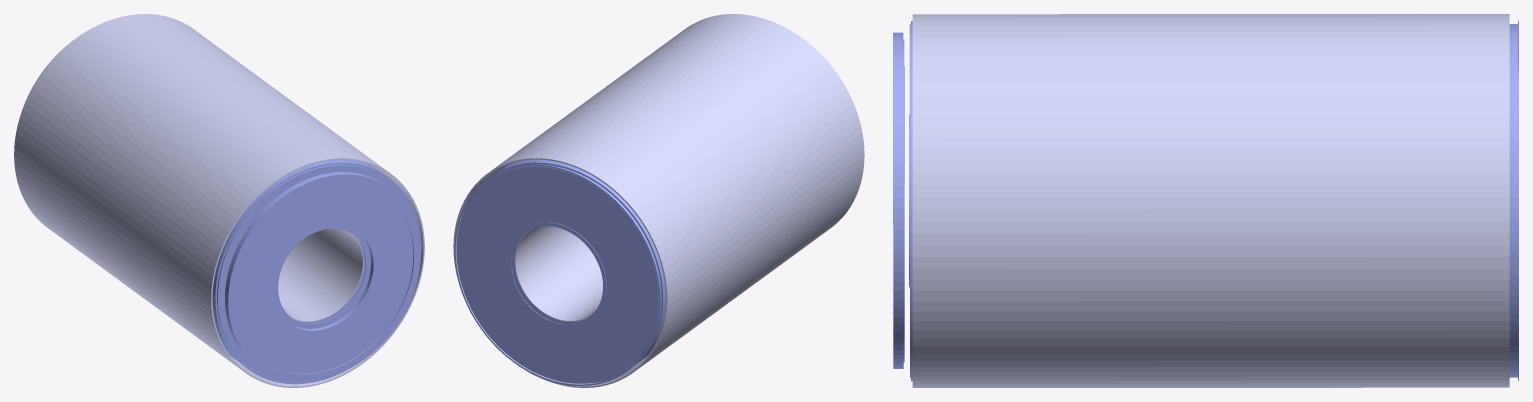
The model's file is SCT-SideC-cut4.glb.
3 renders of one model, left to right at view 1: azimuth 30°, elevation 25°; view 2: azimuth 150°, elevation 25°; view 3: azimuth 270°, elevation 25°, orthographic. The views are drawn at different scales.
Parts seen in each view (by area): view 1: null; view 2: null; view 3: null.
Boxes of the visible parts, x1,y1,x2,y2 form: null: [14, 14, 424, 387]; null: [453, 14, 864, 387]; null: [893, 14, 1518, 387].
Size of the model in its own units: 1.22 by 1.22 by 2.04.
